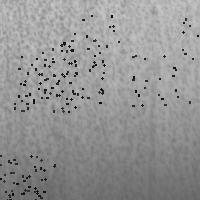pitted_surface: (1, 1, 199, 199), (42, 43, 102, 102), (132, 49, 192, 105), (60, 15, 118, 72), (14, 56, 74, 111), (0, 163, 54, 200), (0, 155, 44, 200), (0, 172, 34, 200), (174, 0, 200, 35)
